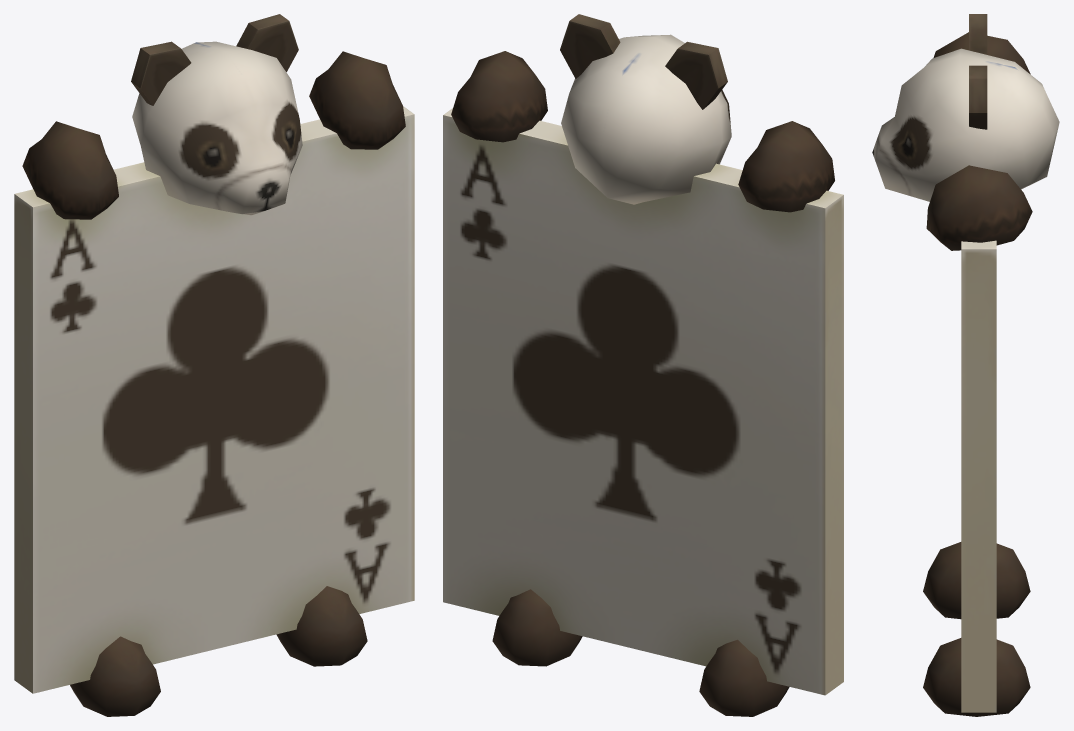
File: sc_wjgc_002_001.FBX
3 views of the same model, side by side, from view 1: azimuth 30°, elevation 25°; view 2: azimuth 150°, elevation 25°; view 3: azimuth 270°, elevation 25° (orthographic). The views are drawn at different scales.
Parts seen in each view (by area): view 1: sc_wjgc_002_001; view 2: sc_wjgc_002_001; view 3: sc_wjgc_002_001.
Part boxes in pixels (x1=…): sc_wjgc_002_001: x1=14, y1=14, x2=414, y2=716; sc_wjgc_002_001: x1=443, y1=14, x2=843, y2=716; sc_wjgc_002_001: x1=872, y1=14, x2=1059, y2=716.
Size of the model in its own units: 1.73 by 2.77 by 0.7725.
